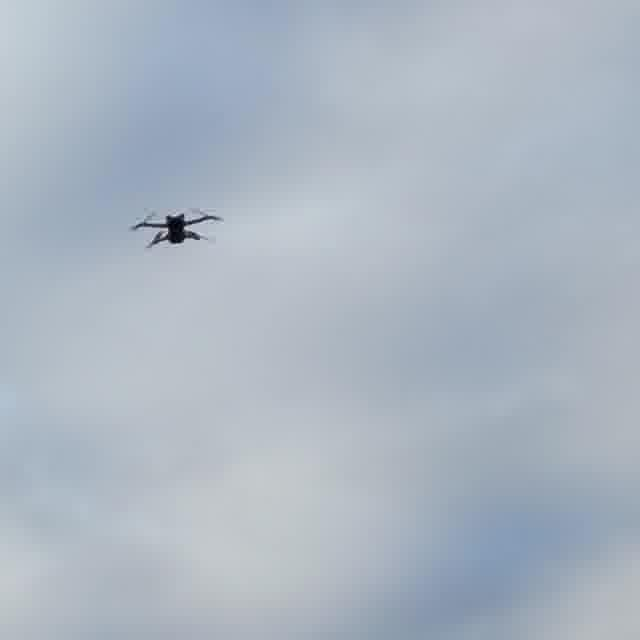Drohne: (132, 209, 223, 248)
